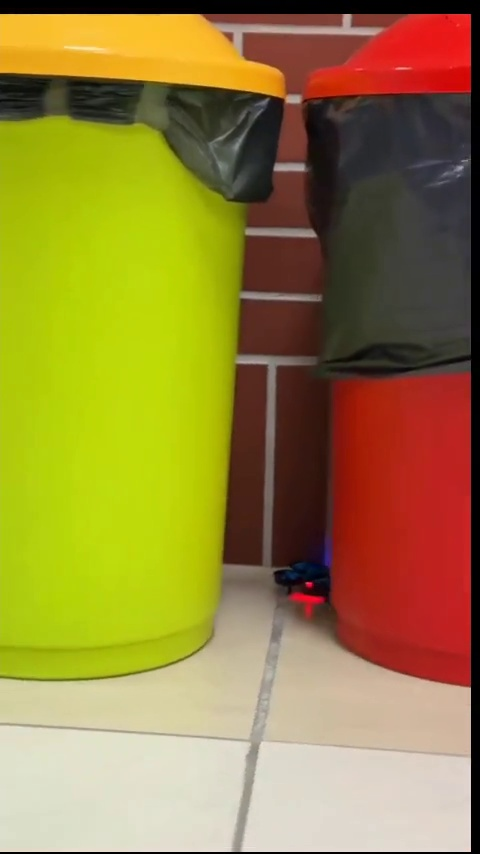drone: (271, 561, 325, 595)
